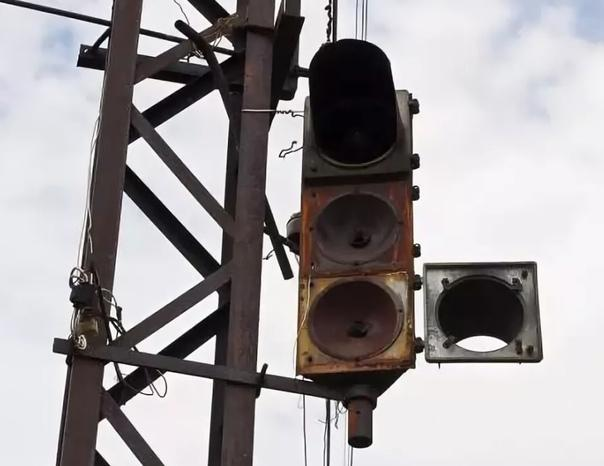off traffic light: (286, 36, 541, 385)
